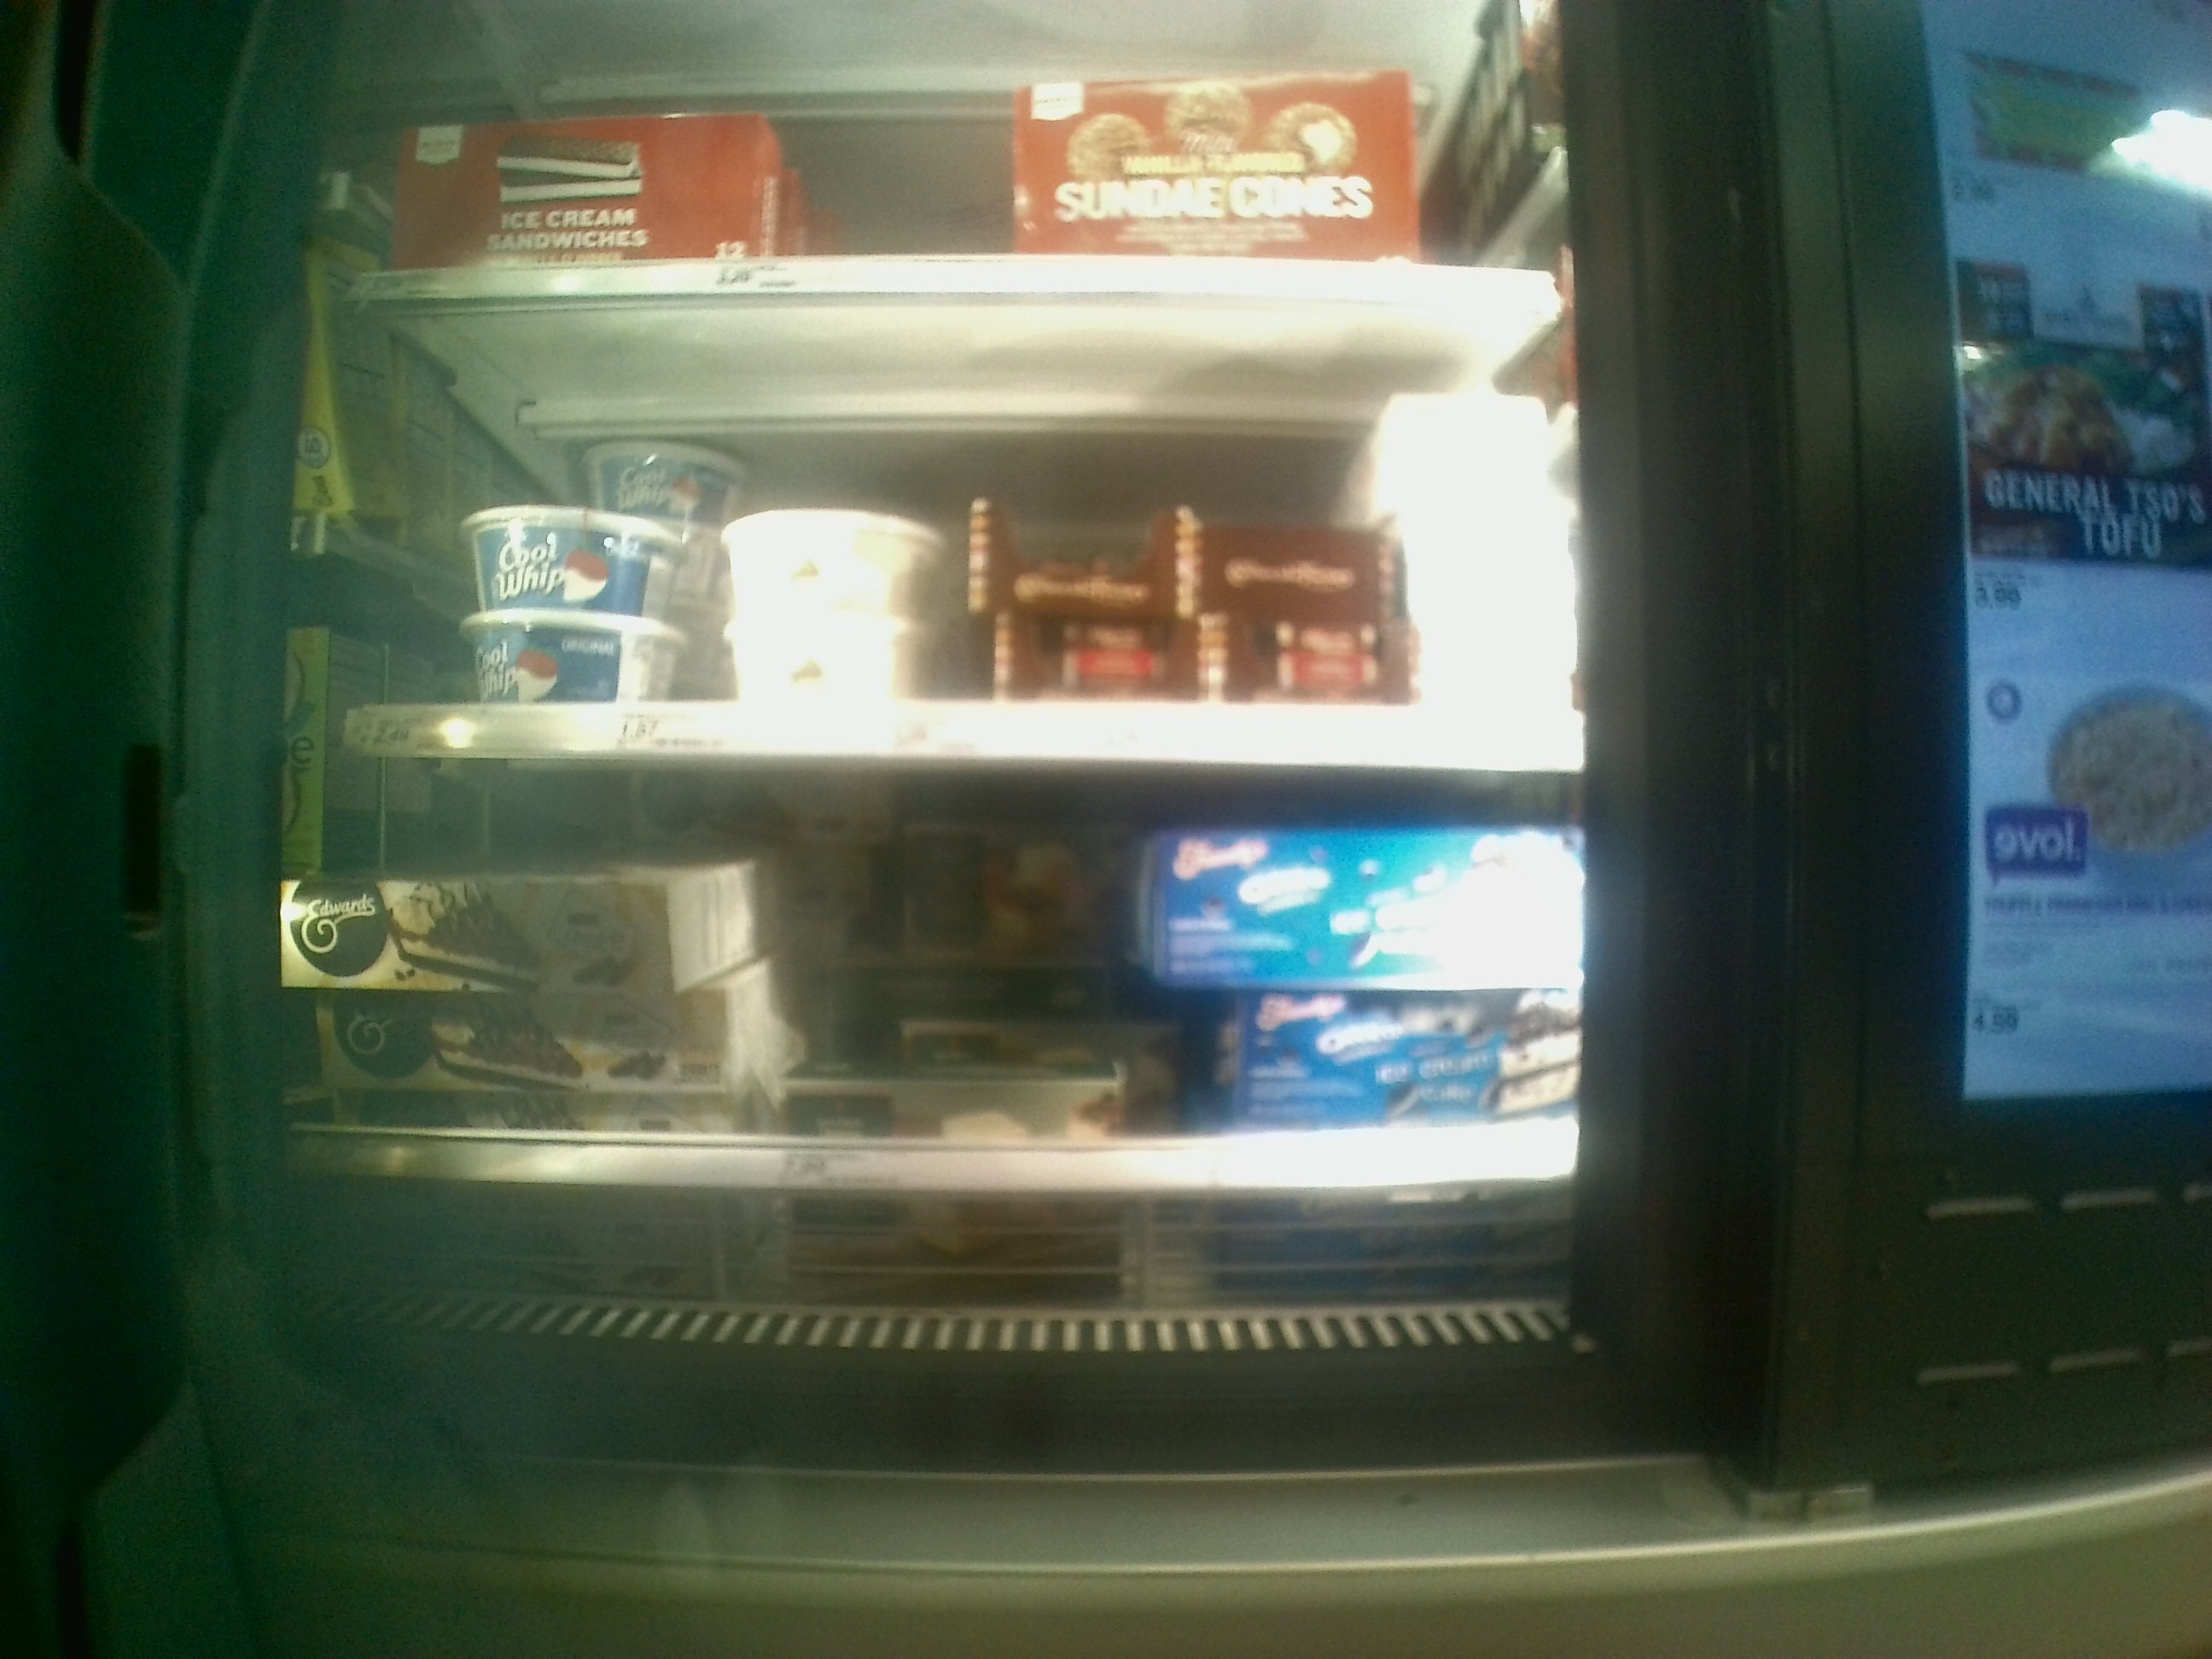shelf: (221, 772, 1601, 1248), (289, 300, 1578, 772)
